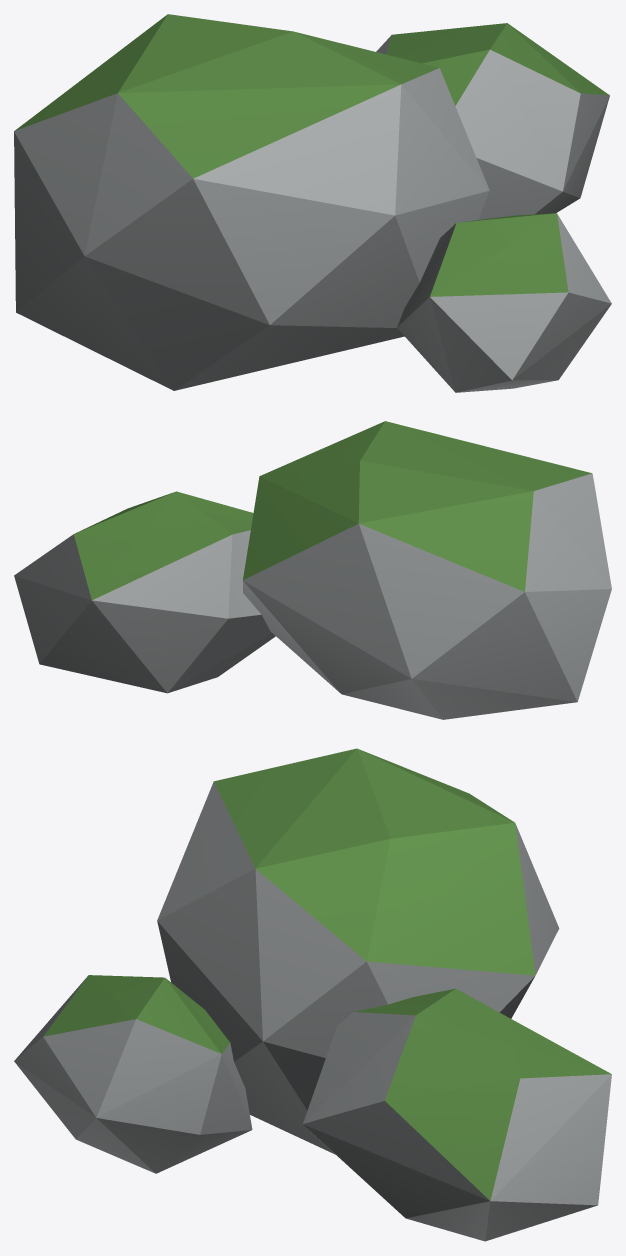
Rendered from rock_4.glb.
The picture shows the model from 3 angles, top to bottom: view 1: azimuth 30°, elevation 25°; view 2: azimuth 150°, elevation 25°; view 3: azimuth 270°, elevation 25°; orthographic projection. The views are drawn at different scales.
Visible parts, largest first — view 1: rock_4; view 2: rock_4; view 3: rock_4.
Part boxes in pixels (x1=…): rock_4: x1=14, y1=14, x2=611, y2=392; rock_4: x1=14, y1=421, x2=611, y2=719; rock_4: x1=14, y1=748, x2=611, y2=1241.
Bounding box in the file's own units: 2.09 × 0.9202 × 1.73.
